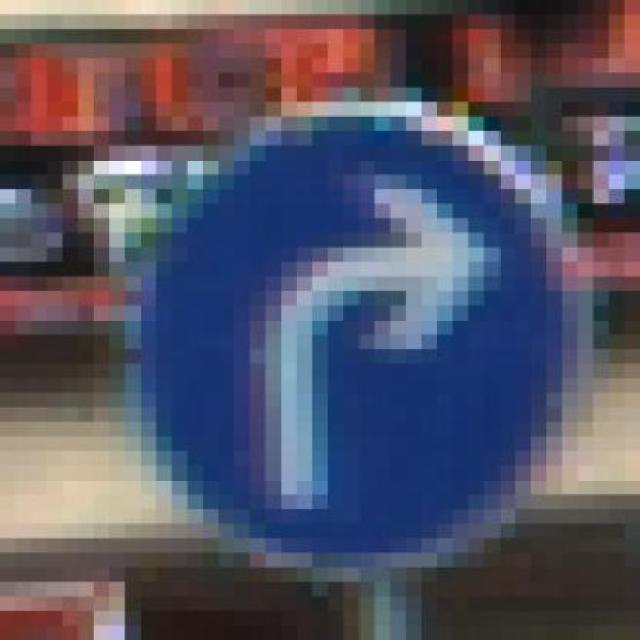Turn right ahead: (79, 91, 610, 571)
